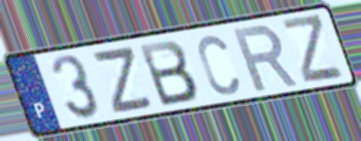3: (52, 54, 102, 122)
B: (135, 38, 200, 109)
C: (196, 33, 243, 99)
R: (230, 22, 301, 94)
Z: (279, 11, 347, 84), (92, 43, 157, 116)
